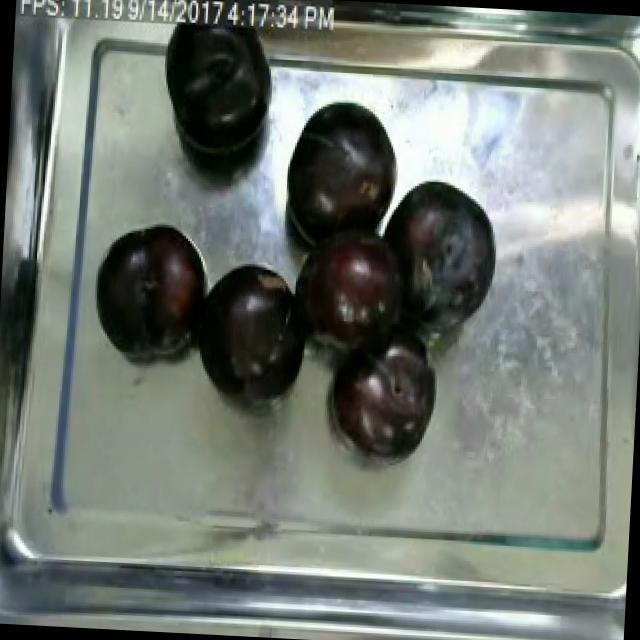Fruit: (376, 172, 508, 342), (274, 90, 410, 254), (154, 13, 282, 172), (88, 216, 213, 358), (182, 256, 303, 398), (288, 212, 418, 340), (323, 333, 439, 463)
